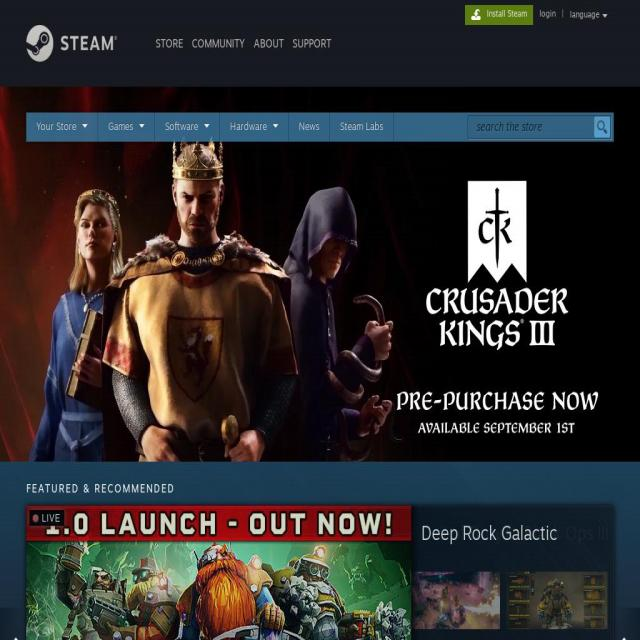download: (468, 8, 532, 27)
language: (565, 3, 617, 25)
login-option: (536, 3, 559, 22)
navigation-blocks: (27, 500, 622, 640)
navigation-links: (24, 108, 391, 140), (146, 27, 339, 60)
search: (470, 110, 611, 138)
